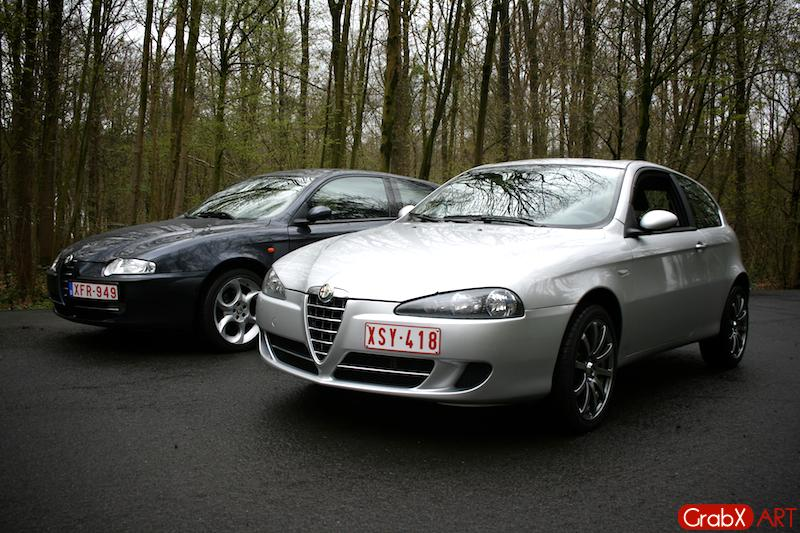windshield: (389, 156, 632, 230), (179, 171, 318, 226)
